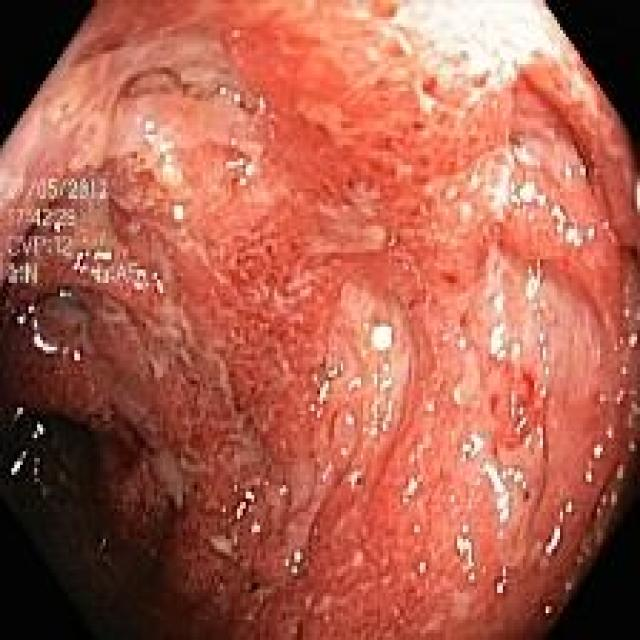ulcerative-colitis-grade-3: (1, 3, 640, 637)
